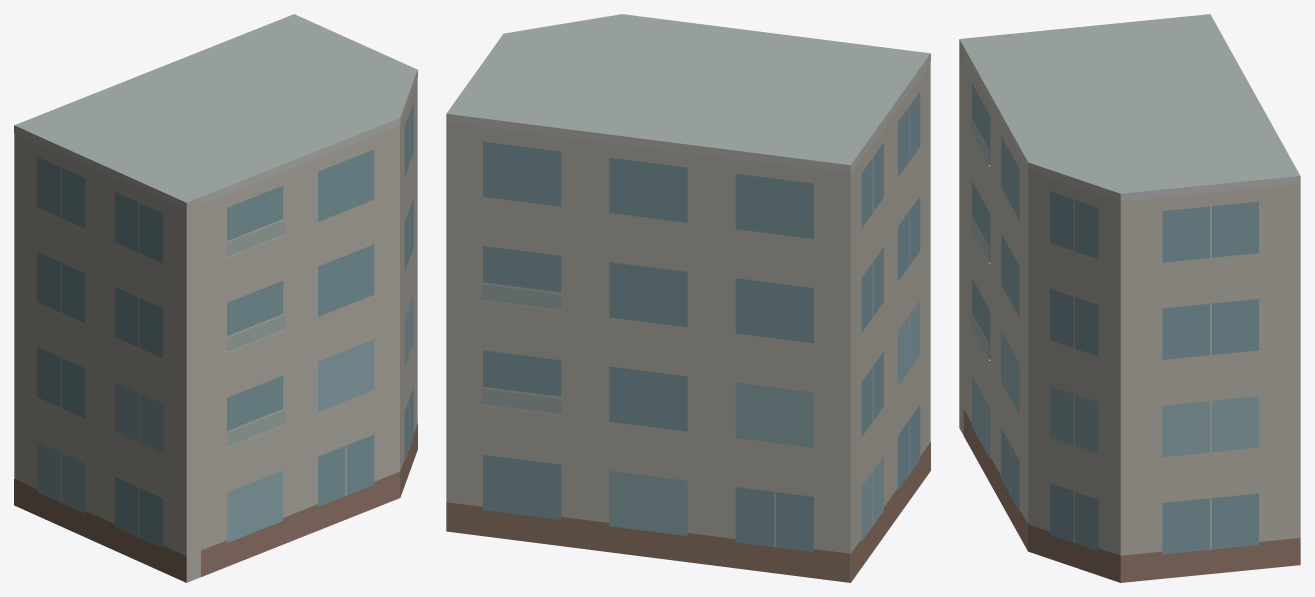
File: residential-2a4c468e-37b1-4c72-8707-787fd51ca446.glb
3 renders of one model, left to right at view 1: azimuth 30°, elevation 25°; view 2: azimuth 150°, elevation 25°; view 3: azimuth 270°, elevation 25°, orthographic. The views are drawn at different scales.
Visible parts, largest first — view 1: residential-2a4c468e-37b1-4c72-8707-787fd51ca446.tmp; view 2: residential-2a4c468e-37b1-4c72-8707-787fd51ca446.tmp; view 3: residential-2a4c468e-37b1-4c72-8707-787fd51ca446.tmp.
Part boxes in pixels (x1,y1,x2,y2): residential-2a4c468e-37b1-4c72-8707-787fd51ca446.tmp: (14, 14, 417, 582); residential-2a4c468e-37b1-4c72-8707-787fd51ca446.tmp: (446, 14, 930, 582); residential-2a4c468e-37b1-4c72-8707-787fd51ca446.tmp: (959, 14, 1300, 582).
Bounding box in the file's own units: 12.1 × 12.2 × 9.7.
